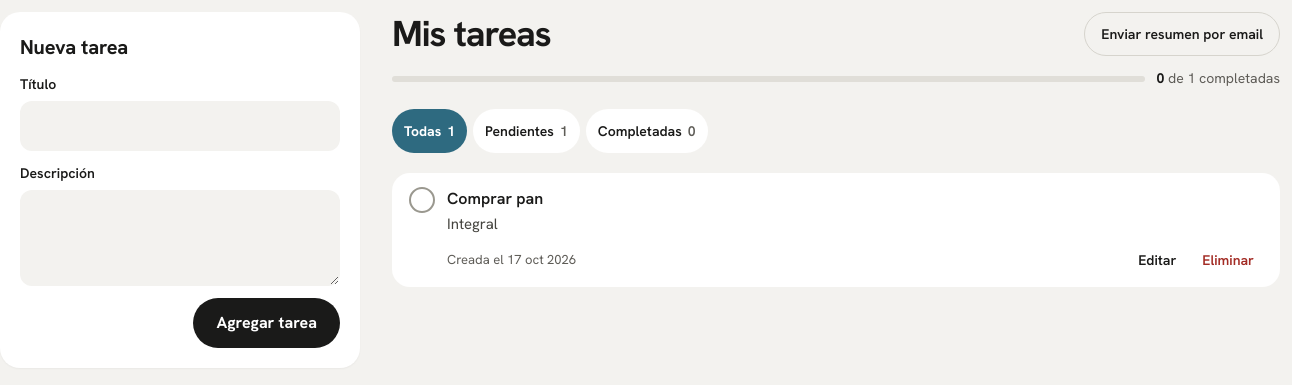
Test: Enviar resumen › shows a readable error when the serverless function fails
Click the button "Enviar resumen por email". click: [1182, 34]
box: [1084, 12, 1280, 56]
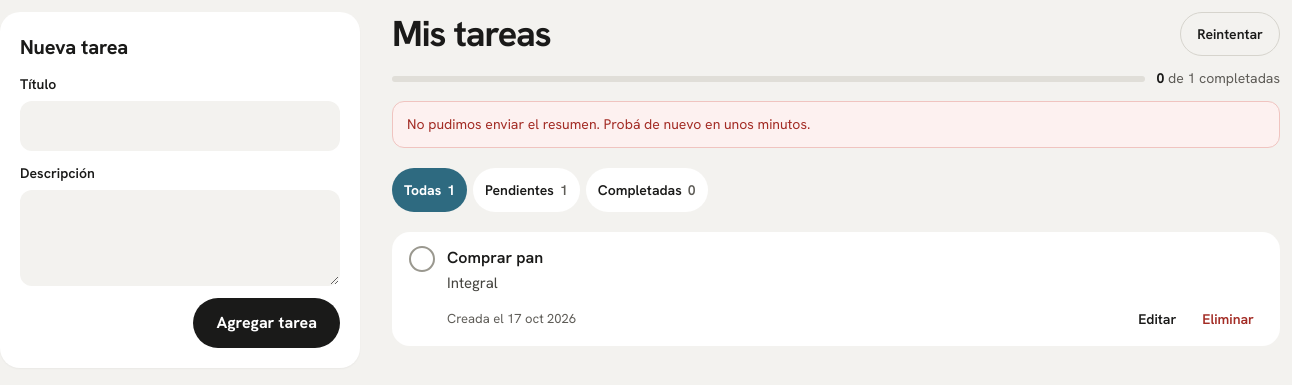
Check: the message reads "No pudimos enviar el resumen. Probá de nuevo en unos minutos.", box [407, 115, 810, 133]
Check: the button "Reintentar" is shown, box [1180, 12, 1280, 56]
